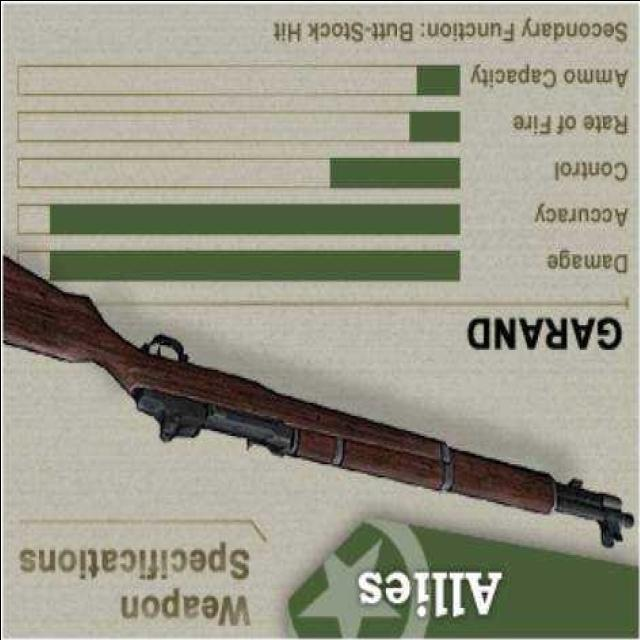heavyweapon: (1, 220, 639, 554)
